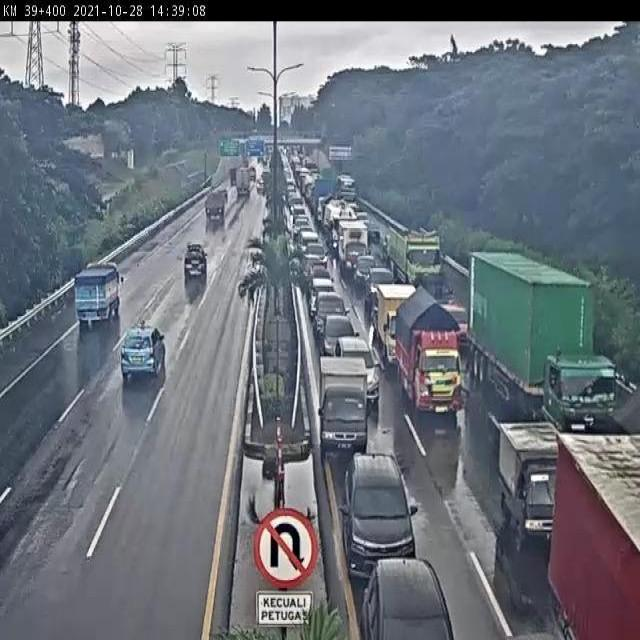big truck: (501, 272, 637, 441), (72, 254, 123, 330)
car: (336, 445, 432, 580), (362, 546, 457, 640), (119, 317, 170, 383), (331, 335, 382, 393), (319, 306, 367, 354)
small truck: (493, 416, 576, 549), (399, 308, 475, 431), (316, 356, 375, 456), (378, 283, 418, 367)
